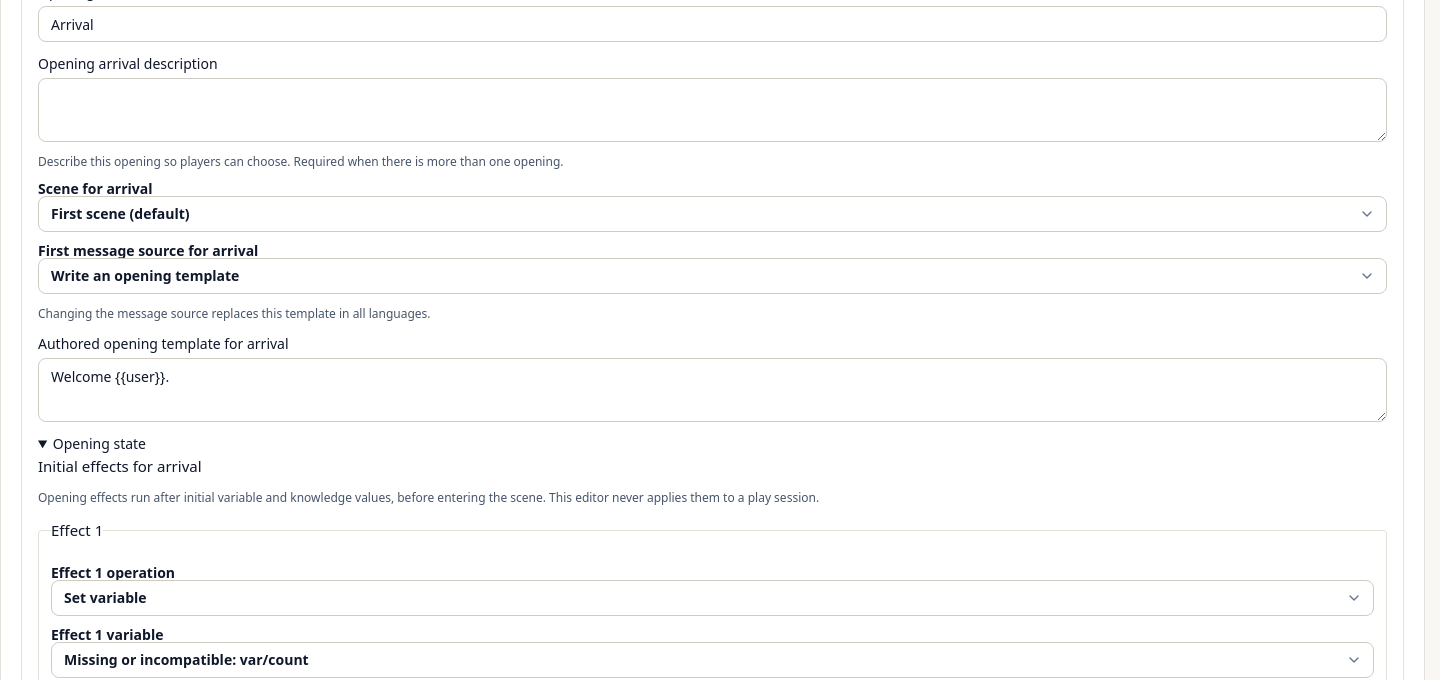
it: edits localized opening templates and bootstrap references without presenting them as resolved messages
(page scrolled)
Replace the text in the text box labelled "Authored opening template for arrival" with "Come in." at (712, 390), box [38,358,1387,422]
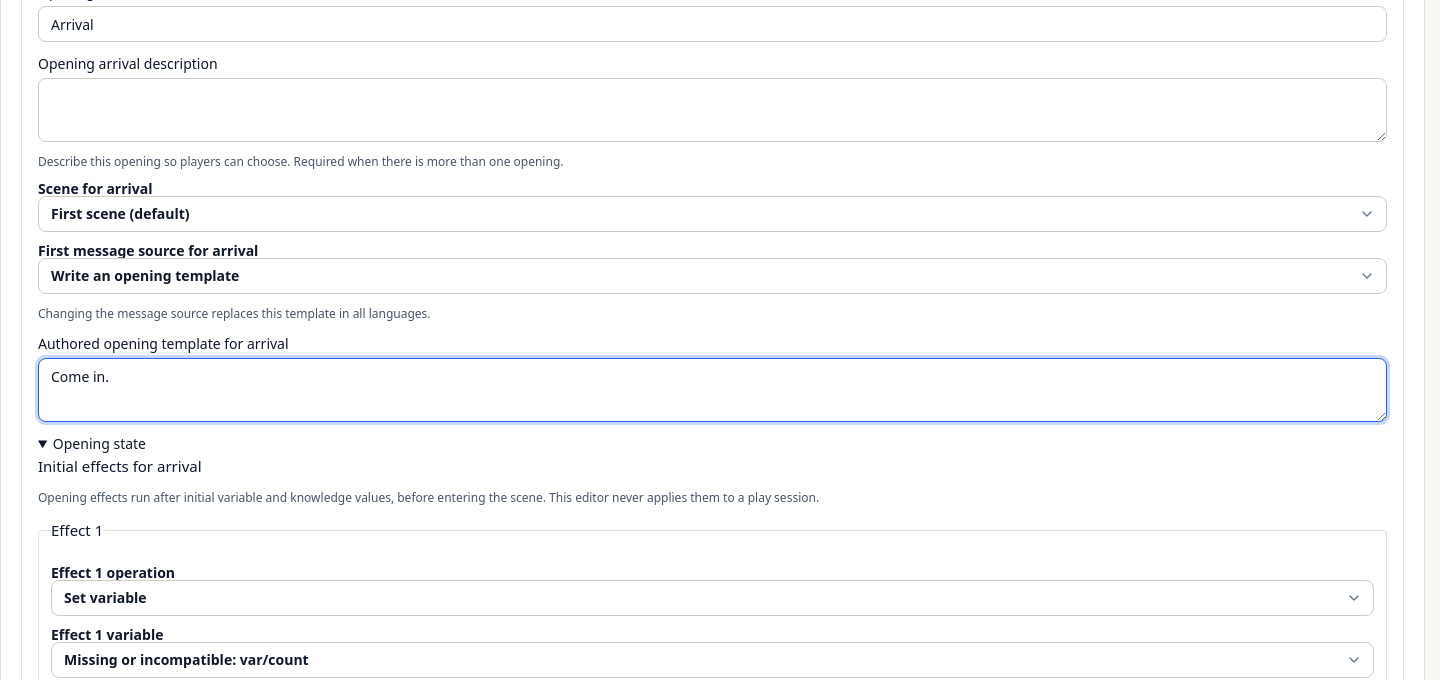
Select "Bootstrap greeting: welcome" in the dropdown labelled "First message source for arrival" at (712, 276), box [38,258,1387,294]
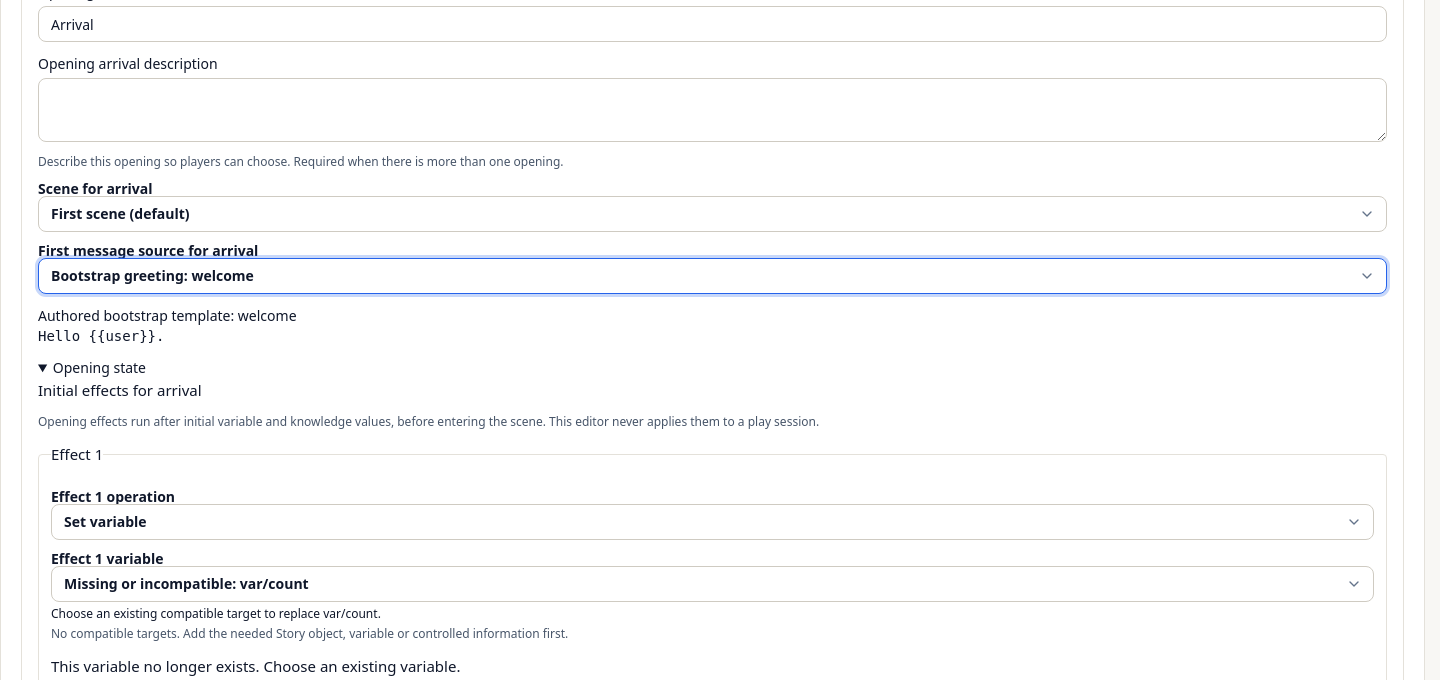
Select "Use first bootstrap greeting, if available" in the dropdown labelled "First message source for arrival" at (712, 276), box [38,258,1387,294]
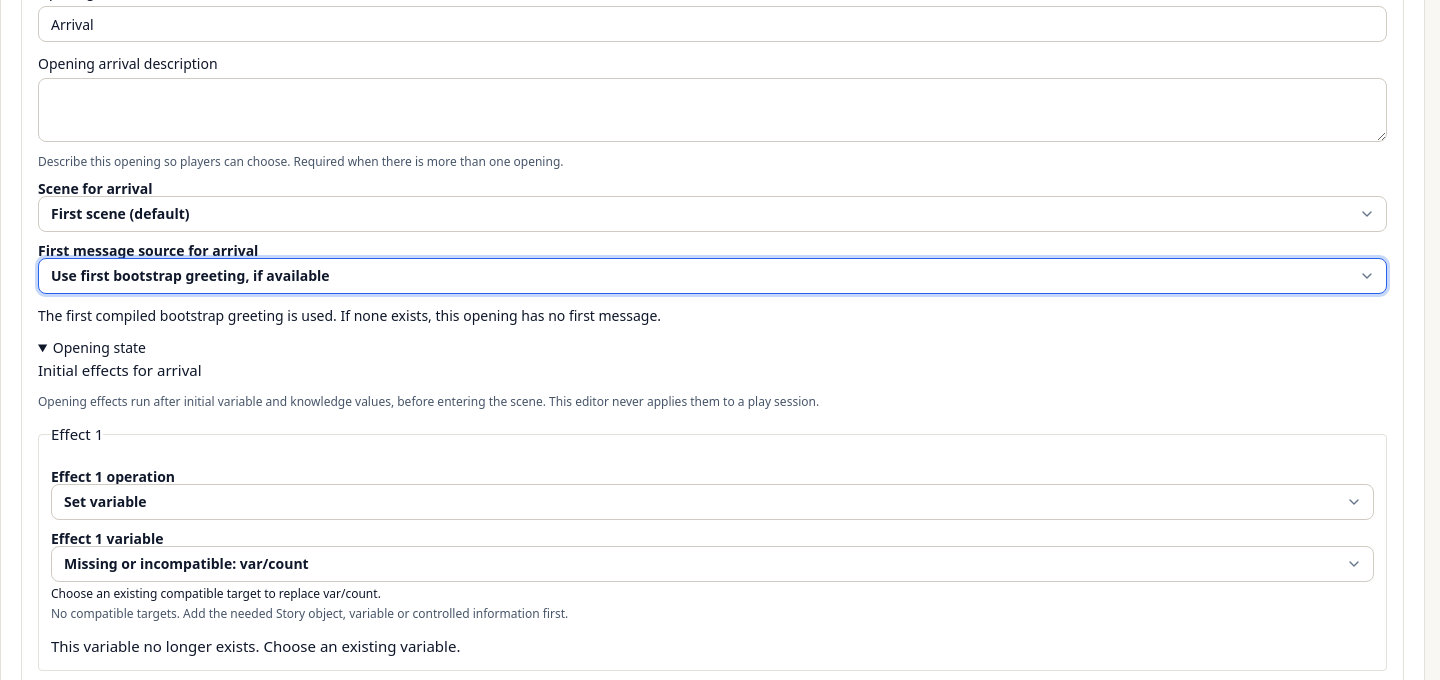
Check: the text "If none exists, this opening has no first message" is shown, box [38,306,661,325]
